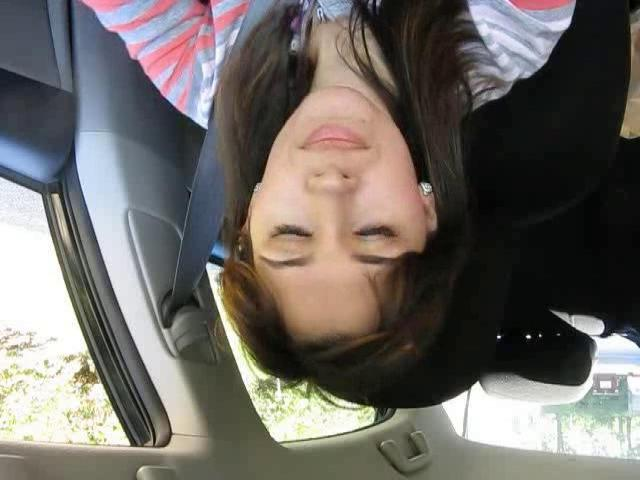eye_closed: (264, 218, 315, 249), (350, 219, 403, 247)
face: (248, 86, 423, 288)
